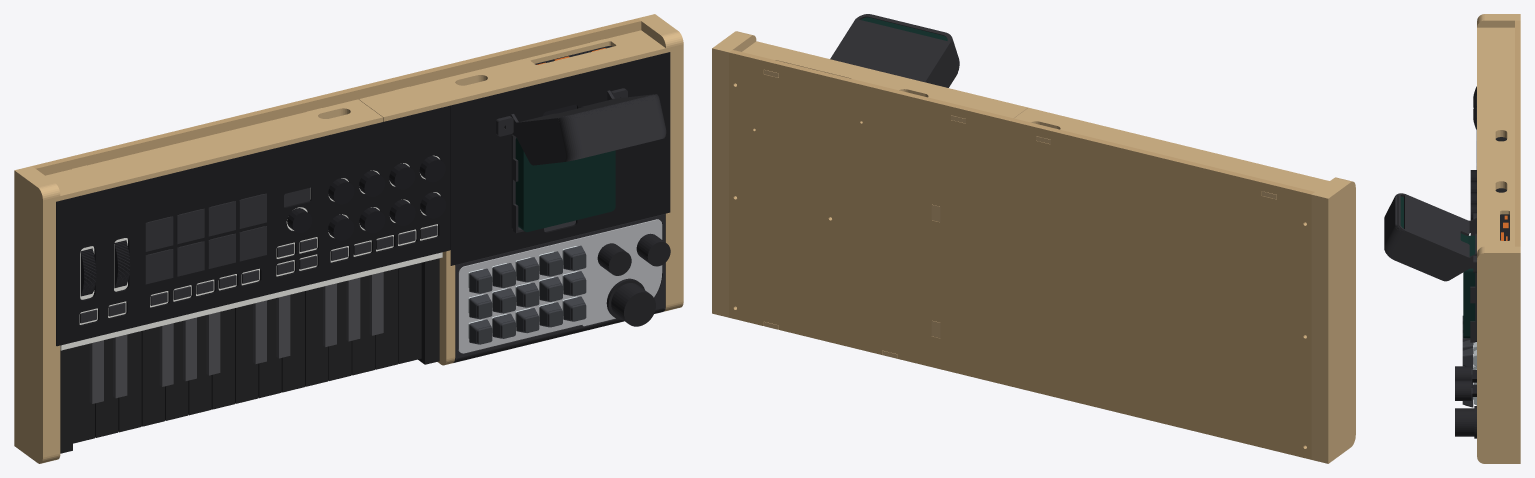
Rendered from stame_console.obj.
The picture shows the model from 3 angles, left to right: view 1: azimuth 30°, elevation 25°; view 2: azimuth 150°, elevation 25°; view 3: azimuth 270°, elevation 25°; orthographic projection. The views are drawn at different scales.
Visible parts, largest first — view 1: mascherina, MPK_tasti, piano_flip, MPK_pad, fianco_sx_esterno, retro_sx, MPK_tasti_neri, retro_dx, Tasti_trasparenti, Macro_pad,_satinata, visiera, Miyoo_Flip (+15 smaller); view 2: base_sx, base_dx, fianco_sx_esterno, visiera, retro_sx, retro_dx, fianco_dx_appoggio, fianco_dx_esterno, fianco_interno_4, fianco_interno_1, fianco_interno_3, fianco_interno_2 (+1 smaller); view 3: fianco_dx_esterno, visiera, retro_sx, retro_dx, Manopole_del_pad, Miyoo_Flip, base_sx, base_dx, Tasti_trasparenti, MPK_manopole, culla_flip, fianco_sx_appoggio (+1 smaller).
Part boxes in pixels (left/top/right/bottom): mascherina: left=56, top=105, right=450, bottom=346; MPK_tasti: left=73, top=262, right=421, bottom=443; piano_flip: left=450, top=52, right=670, bottom=265; MPK_pad: left=80, top=188, right=437, bottom=323; fianco_sx_esterno: left=14, top=169, right=47, bottom=463; retro_sx: left=45, top=99, right=382, bottom=200; MPK_tasti_neri: left=89, top=272, right=383, bottom=403; retro_dx: left=359, top=30, right=665, bottom=121; Tasti_trasparenti: left=469, top=245, right=586, bottom=344; Macro_pad,_satinata: left=458, top=219, right=662, bottom=353; visiera: left=496, top=88, right=666, bottom=165; Miyoo_Flip: left=515, top=138, right=615, bottom=232; base_sx: left=990, top=116, right=1314, bottom=459; base_dx: left=729, top=50, right=1004, bottom=383; fianco_sx_esterno: left=1324, top=180, right=1355, bottom=463; visiera: left=830, top=14, right=959, bottom=87; retro_sx: left=1014, top=107, right=1329, bottom=199; retro_dx: left=742, top=41, right=1027, bottom=123; fianco_dx_appoggio: left=724, top=34, right=756, bottom=317; fianco_dx_esterno: left=712, top=31, right=740, bottom=314; fianco_interno_4: left=720, top=33, right=748, bottom=316; fianco_interno_1: left=1320, top=179, right=1348, bottom=462; fianco_interno_3: left=716, top=32, right=744, bottom=315; fianco_interno_2: left=1315, top=178, right=1343, bottom=461; fianco_dx_esterno: left=1477, top=251, right=1520, bottom=463; visiera: left=1384, top=193, right=1476, bottom=281; retro_sx: left=1477, top=27, right=1514, bottom=147; retro_dx: left=1477, top=148, right=1514, bottom=252; Manopole_del_pad: left=1455, top=366, right=1476, bottom=438; Miyoo_Flip: left=1400, top=196, right=1475, bottom=338; base_sx: left=1515, top=20, right=1520, bottom=140; base_dx: left=1515, top=141, right=1520, bottom=246; Tasti_trasparenti: left=1462, top=316, right=1473, bottom=407; MPK_manopole: left=1470, top=86, right=1476, bottom=235; culla_flip: left=1470, top=233, right=1476, bottom=342; fianco_sx_appoggio: left=1477, top=19, right=1520, bottom=27.
Size of the model in its own units: 584 by 240 by 141.
